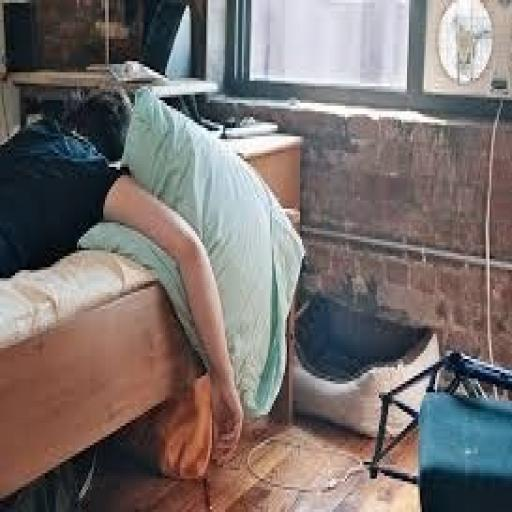sleeping: (0, 81, 246, 509)
